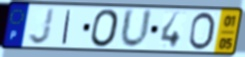4: (159, 11, 183, 50)
I: (60, 9, 73, 46)
J: (27, 7, 57, 46)
O: (90, 8, 121, 49), (187, 11, 217, 52)
U: (119, 7, 154, 50)
